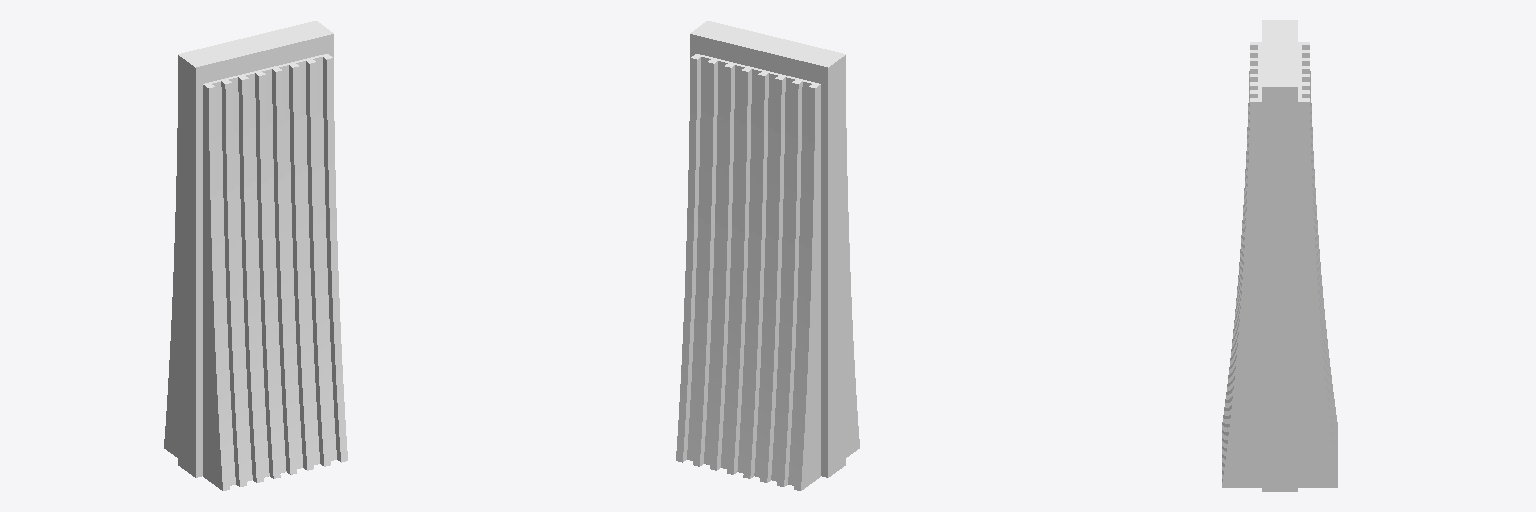
URDF robot description (Chase_building):
<?xml version="1.0" ?>
<robot name="Chase_building">
  <link name="Chase_building">
    <contact>
      <lateral_friction value="1.0"/>
      <rolling_friction value="1.0"/>
      <inertia_scaling value="3.0"/>
      <contact_cdm value="0.0"/>
      <contact_erp value="1.0"/>
    </contact>
    <inertial>
      <origin rpy="0 0 0" xyz="0 0 0"/>
      <mass value="1.0"/>
      <inertia ixx="0" ixy="0" ixz="0" iyy="0" iyz="0" izz="0"/>
    </inertial>
    <visual>
      <origin rpy="0 0 0" xyz="0 0 0"/>
      <geometry>
        <mesh filename="Chase_building_vis.obj" scale="1.0 1.0 1.0"/>
      </geometry>
      <material name="blockmat">
        <color rgba="1.0 1.0 1.0 1.0"/>
      </material>
    </visual>
    <collision>
      <origin rpy="0 0 0" xyz="0 0 0"/>
      <geometry>
        <mesh filename="Chase_building_col.obj" scale="1.0 1.0 1.0"/>
      </geometry>
    </collision>
  </link>
</robot>

--- What the picture shows (computed from the rendered views, not written in the file) ---
The picture shows the robot from 3 angles, left to right: view 1: azimuth 30°, elevation 25°; view 2: azimuth 150°, elevation 25°; view 3: azimuth 270°, elevation 25°; orthographic projection.
Robot: Chase_building — 1 links, 0 joints (none); root link Chase_building; default pose: all joints at 0.
Links seen in each view (by area): view 1: Chase_building; view 2: Chase_building; view 3: Chase_building.
Boxes of the visible links, x1=… form: Chase_building: x1=164, y1=21, x2=347, y2=490; Chase_building: x1=676, y1=21, x2=859, y2=490; Chase_building: x1=1222, y1=20, x2=1337, y2=491.
Bounding box of the posed robot: 0.03 × 0.0222 × 0.0847 m (x, y, z).
Meshes: 1 distinct files referenced, 1 mesh visuals loaded (1 OBJ).
